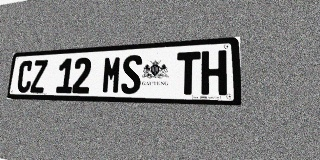1: (56, 58, 75, 93)
2: (72, 57, 92, 93)
C: (16, 60, 33, 93)
H: (201, 50, 227, 95)
M: (101, 56, 122, 94)
S: (120, 54, 142, 94)
T: (176, 51, 201, 95)
Z: (30, 60, 48, 93)
